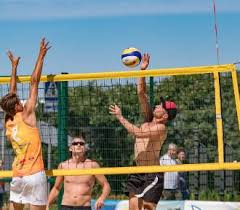ball: (120, 46, 142, 67)
